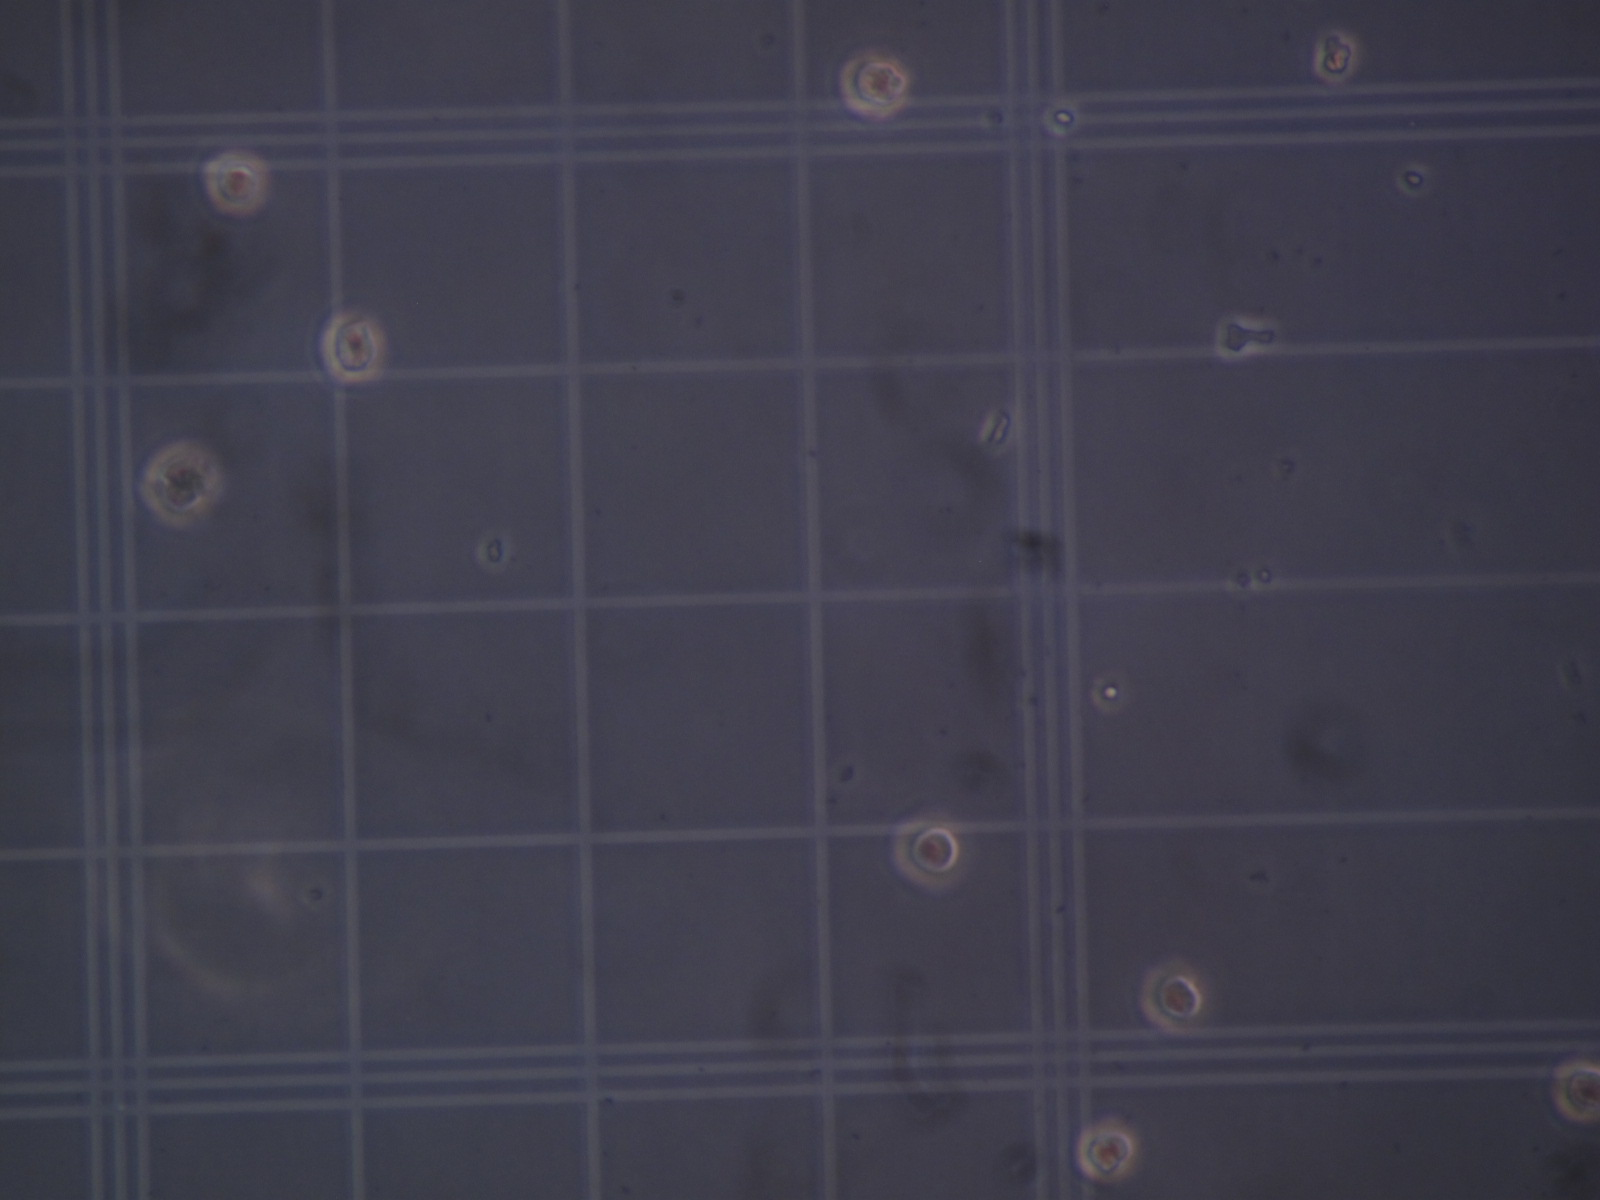hemo: (140, 440, 220, 527), (892, 816, 964, 891), (1139, 964, 1204, 1036), (839, 53, 910, 118), (320, 311, 384, 383), (202, 150, 270, 216), (1076, 1122, 1135, 1182), (1552, 1061, 1600, 1123)
